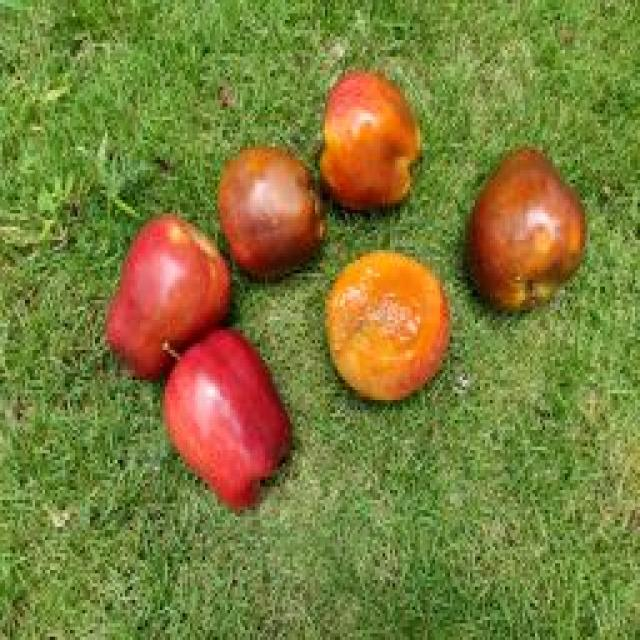Organik: (140, 328, 296, 522), (448, 134, 598, 328), (305, 248, 469, 423), (93, 196, 235, 380), (211, 115, 325, 304), (304, 58, 433, 218)
